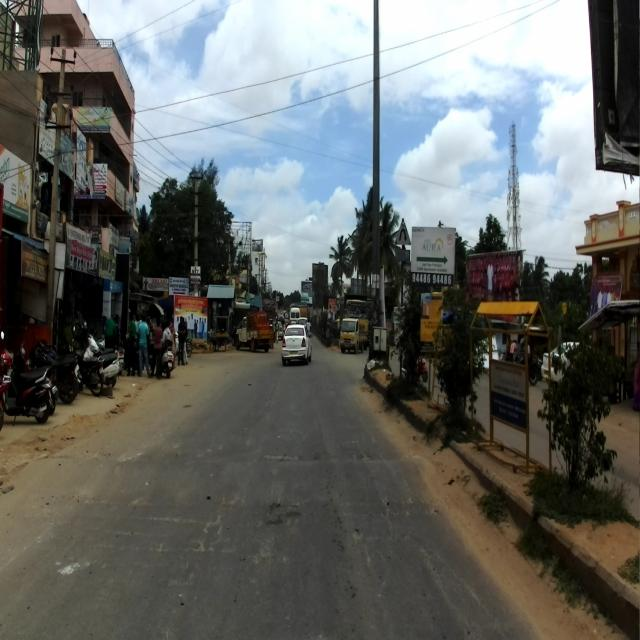Car_Toyota: (281, 319, 311, 365)
scooter: (80, 334, 121, 388), (162, 344, 175, 378)
truck: (340, 315, 366, 353)
